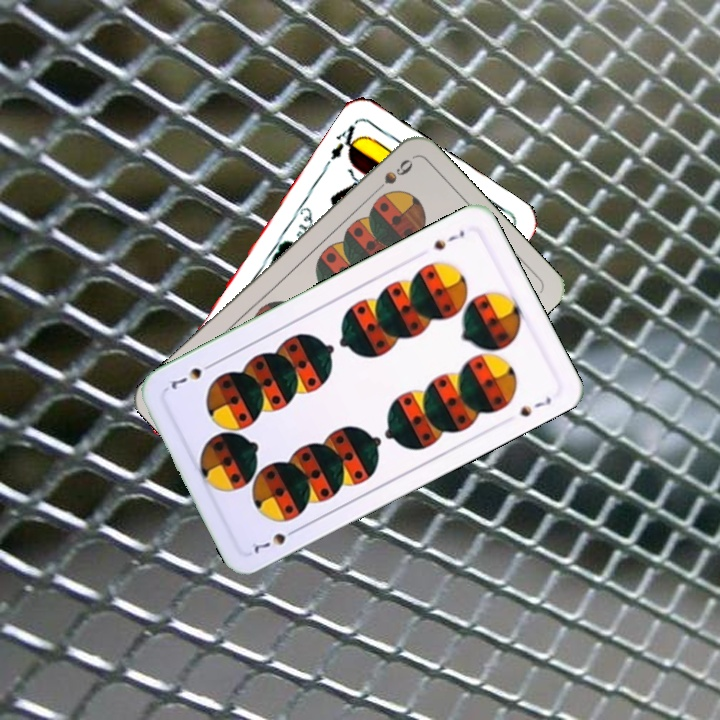EA: (320, 118, 365, 171)
S7: (248, 523, 302, 557), (429, 225, 468, 253)
S9: (367, 154, 416, 199)
